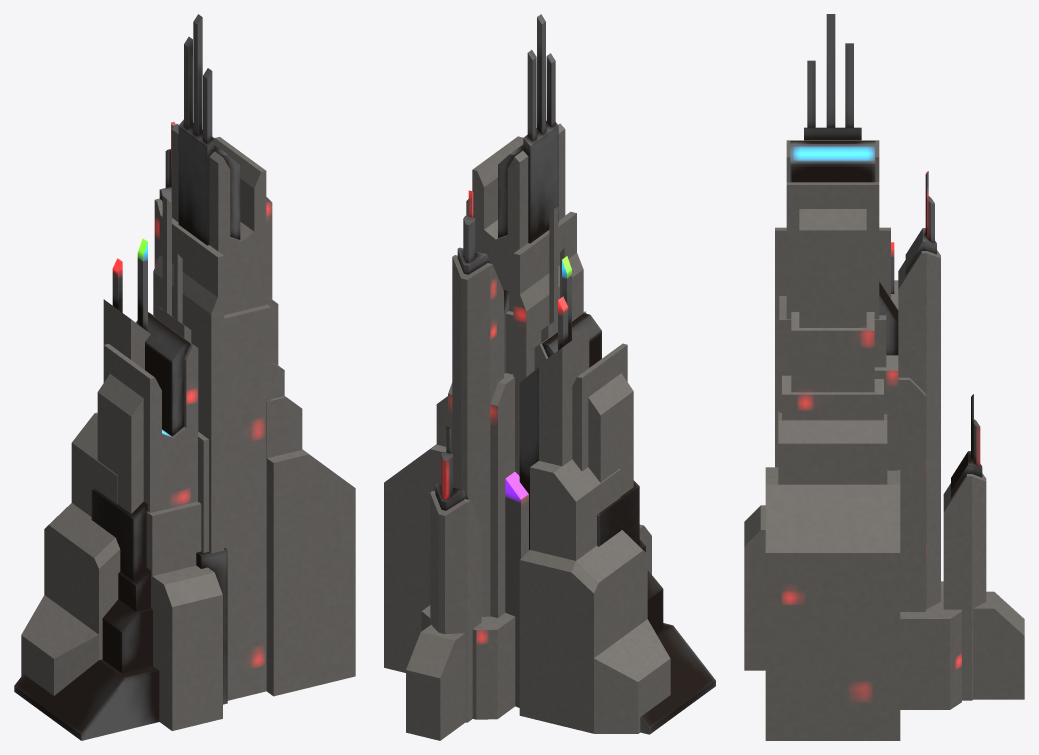
The model's file is SM_BackgroundBuilding_022.fbx.
3 views of the same model, side by side, from view 1: azimuth 30°, elevation 25°; view 2: azimuth 150°, elevation 25°; view 3: azimuth 270°, elevation 25° (orthographic).
Parts seen in each view (by area): view 1: SM_BackgroundBuilding_022_LOD0; view 2: SM_BackgroundBuilding_022_LOD0; view 3: SM_BackgroundBuilding_022_LOD0.
Part boxes in pixels (x1,y1,x2,y2): SM_BackgroundBuilding_022_LOD0: (14, 14, 355, 740); SM_BackgroundBuilding_022_LOD0: (384, 14, 715, 740); SM_BackgroundBuilding_022_LOD0: (744, 14, 1024, 740).
Size of the model in its own units: 2392 by 2132 by 5604.
1 material, 1 textured.
